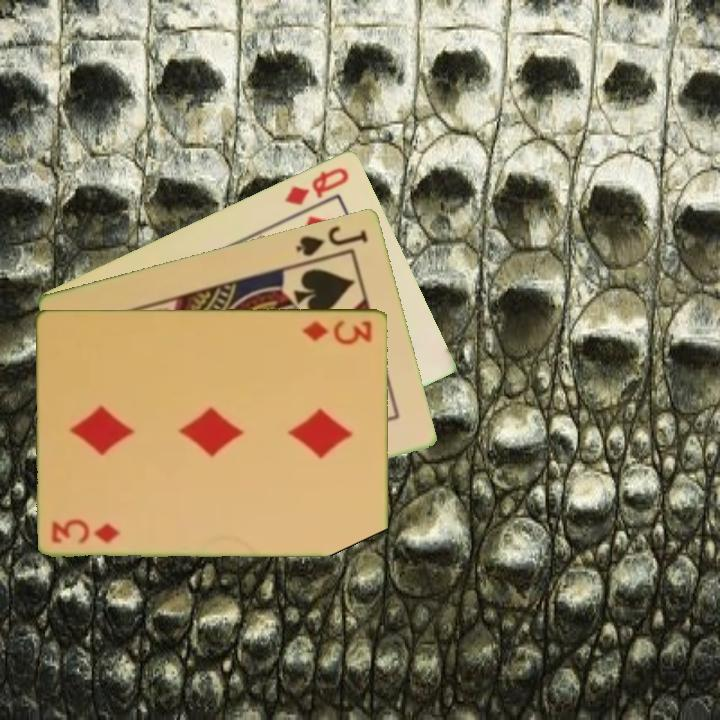3d: (299, 316, 375, 346), (48, 518, 123, 546)
Js: (292, 222, 371, 259)
Qd: (281, 163, 352, 208)
